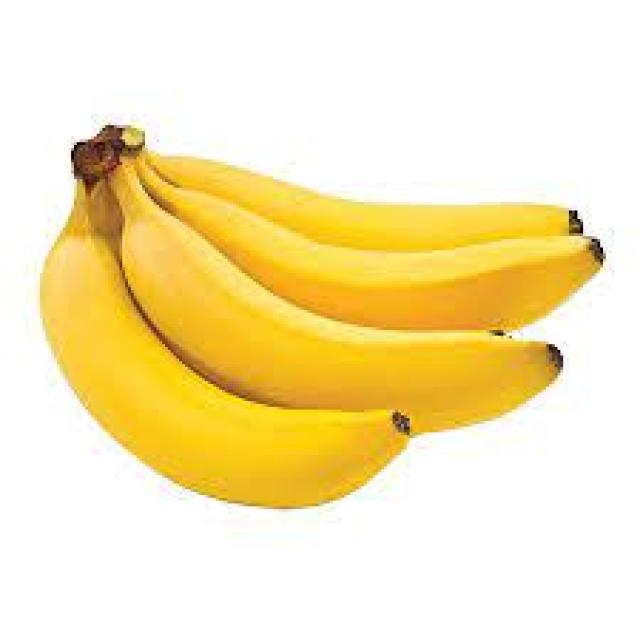Banana: (40, 188, 410, 506), (110, 164, 560, 416), (145, 167, 599, 328), (146, 154, 569, 249)
